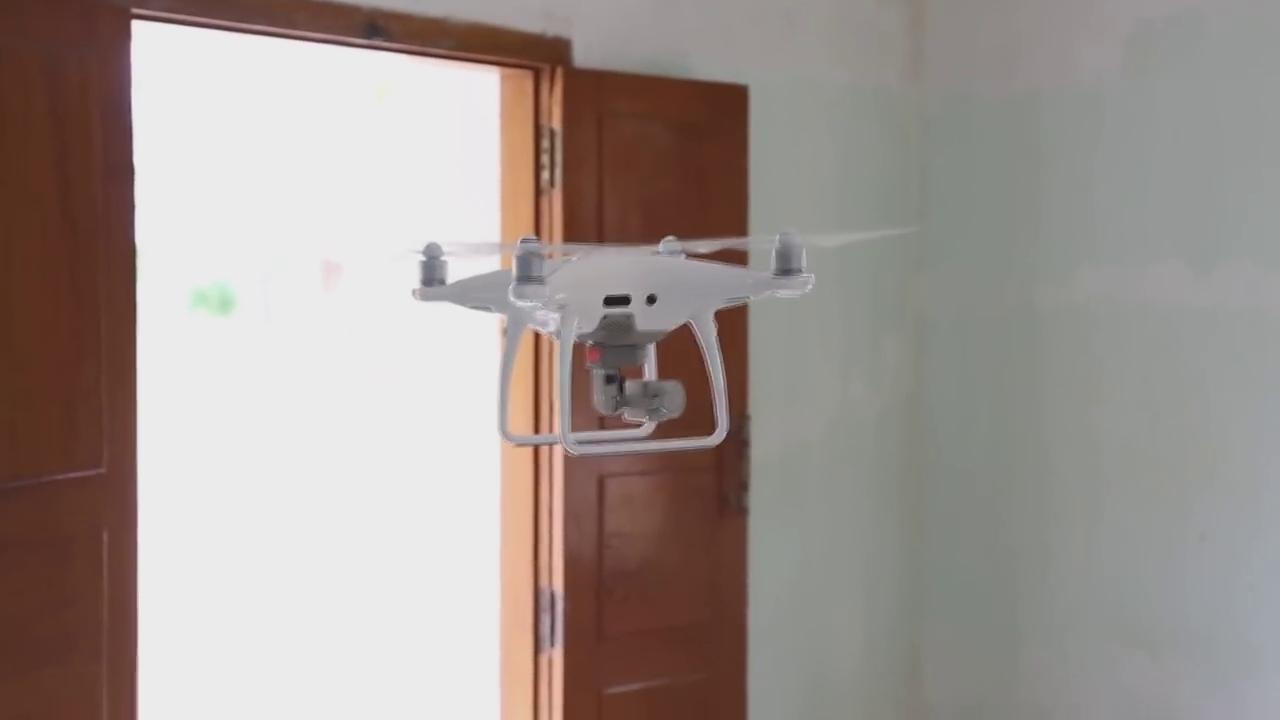drone: (369, 206, 952, 498)
